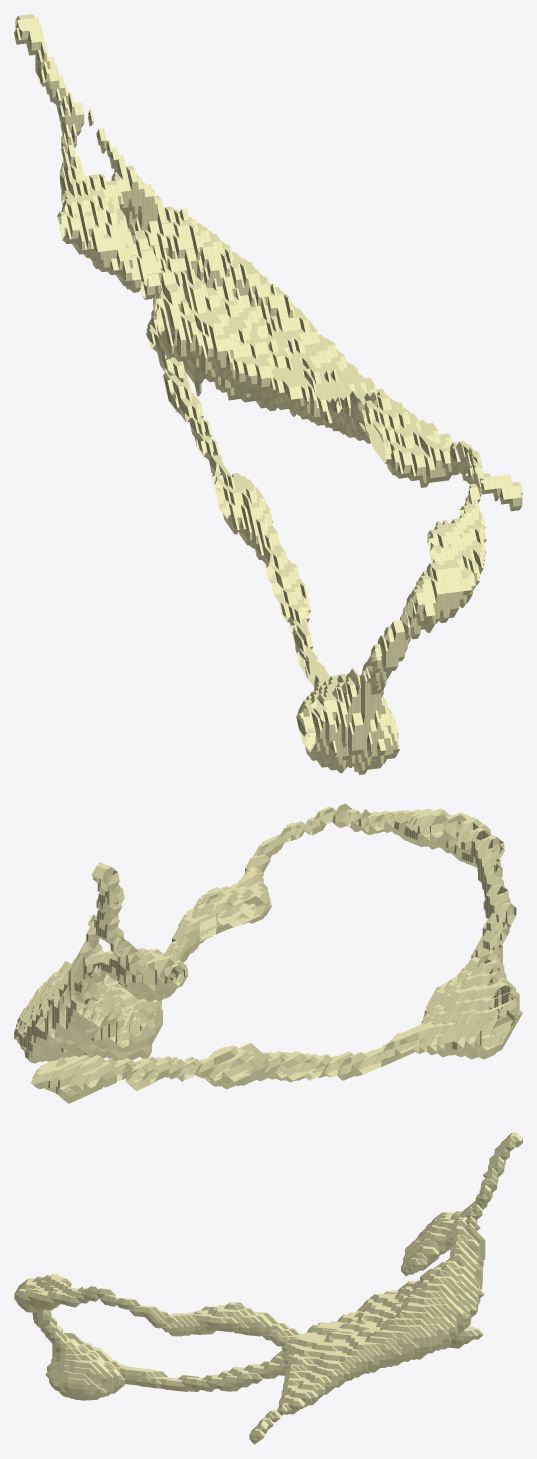
The model's file is SVV_IL2VL.gltf.
3 views of the same model, one above another, from view 1: azimuth 30°, elevation 25°; view 2: azimuth 150°, elevation 25°; view 3: azimuth 270°, elevation 25° (orthographic). The views are drawn at different scales.
Parts seen in each view (by area): view 1: IL2VL; view 2: IL2VL; view 3: IL2VL.
Boxes of the visible parts, box(x1,y1,x2,y2) form: IL2VL: box(14, 14, 522, 774); IL2VL: box(14, 803, 522, 1103); IL2VL: box(14, 1132, 522, 1444).
Bounding box in the file's own units: 30724 × 37585 × 62703.
